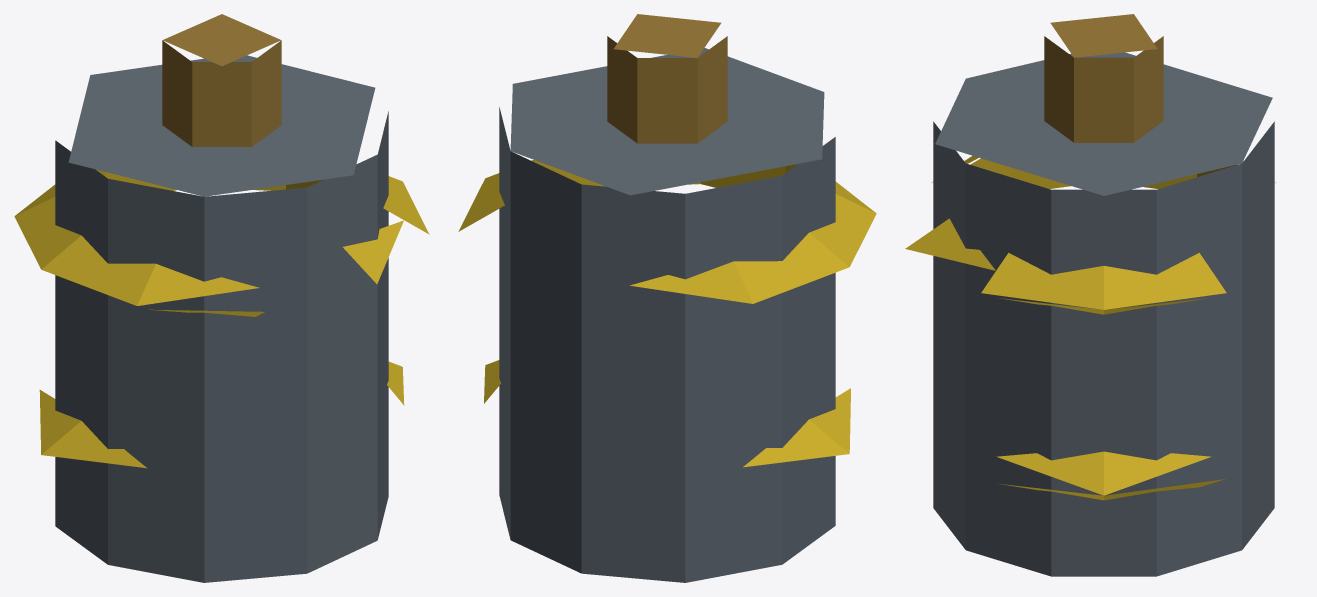
File: cell-deafening.lod.glb
3 renders of one model, left to right at view 1: azimuth 30°, elevation 25°; view 2: azimuth 150°, elevation 25°; view 3: azimuth 270°, elevation 25°, orthographic.
Visible parts, largest first — view 1: m; view 2: m; view 3: m.
Part boxes in pixels (x1=…): m: x1=14, y1=14, x2=429, y2=582; m: x1=458, y1=14, x2=876, y2=582; m: x1=905, y1=14, x2=1275, y2=576.
Bounding box in the file's own units: 0.0482 × 0.06 × 0.0458.
